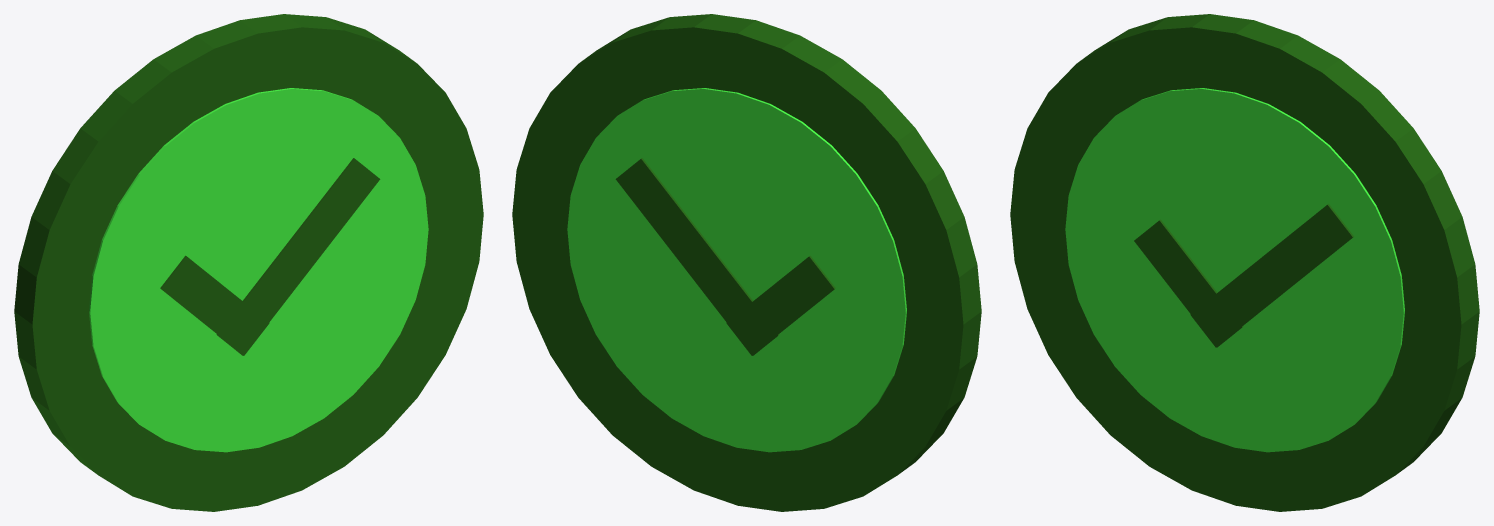
The model's file is Checked.glb.
3 views of the same model, side by side, from view 1: azimuth 30°, elevation 25°; view 2: azimuth 150°, elevation 25°; view 3: azimuth 330°, elevation 25° (orthographic).
Parts seen in each view (by area): view 1: Cylinder.003, Cylinder.002, Cube.002, Cube.003; view 2: Cylinder.003, Cylinder.002, Cube.002, Cube.003; view 3: Cylinder.003, Cylinder.002, Cube.002, Cube.003.
Part boxes in pixels (<box>): Cylinder.003: <box>14,14,483,511</box>; Cylinder.002: <box>89,88,428,452</box>; Cube.002: <box>216,158,380,355</box>; Cube.003: <box>160,255,269,355</box>; Cylinder.003: <box>512,14,981,511</box>; Cylinder.002: <box>567,88,906,452</box>; Cube.002: <box>615,158,779,355</box>; Cube.003: <box>726,255,835,355</box>; Cylinder.003: <box>1010,14,1479,511</box>; Cylinder.002: <box>1065,88,1404,452</box>; Cube.002: <box>1190,204,1353,347</box>; Cube.003: <box>1134,219,1243,347</box>.
Bounding box in the file's own units: 2 × 2 × 0.18.
